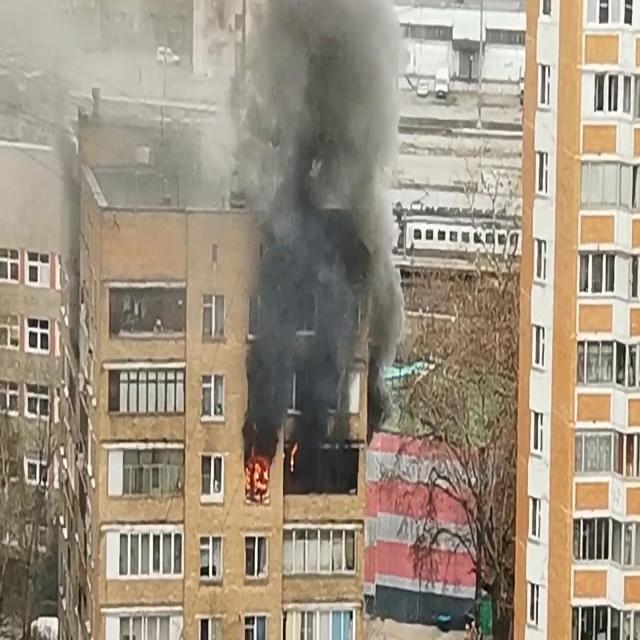Fire: (244, 446, 272, 496)
Smoke: (221, 0, 415, 458), (48, 38, 86, 344)
